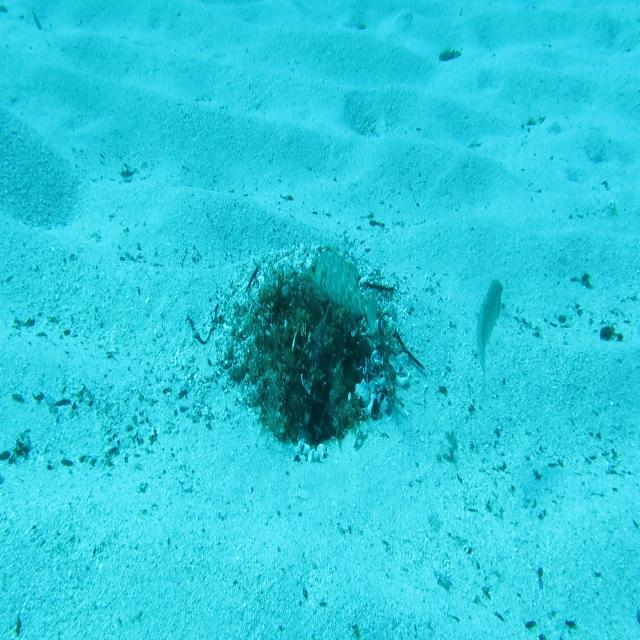INSF: (306, 243, 378, 339)
core_nest: (285, 292, 336, 327)
female: (474, 275, 504, 406)
nest: (209, 237, 417, 468)
vegetation: (438, 46, 462, 66)
